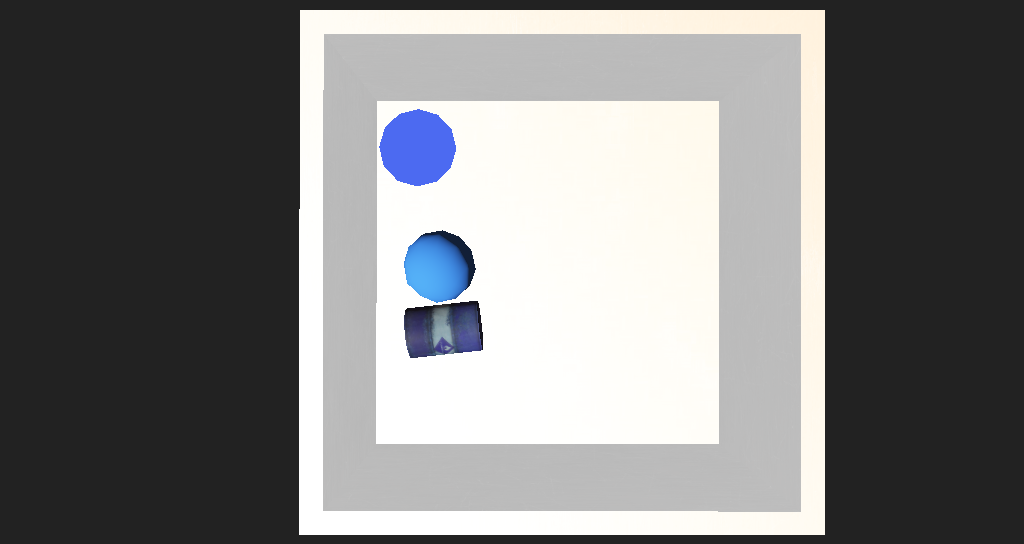cone: (381, 286, 455, 324)
cylinder: (357, 169, 424, 222)
sphere: (381, 246, 441, 289)
